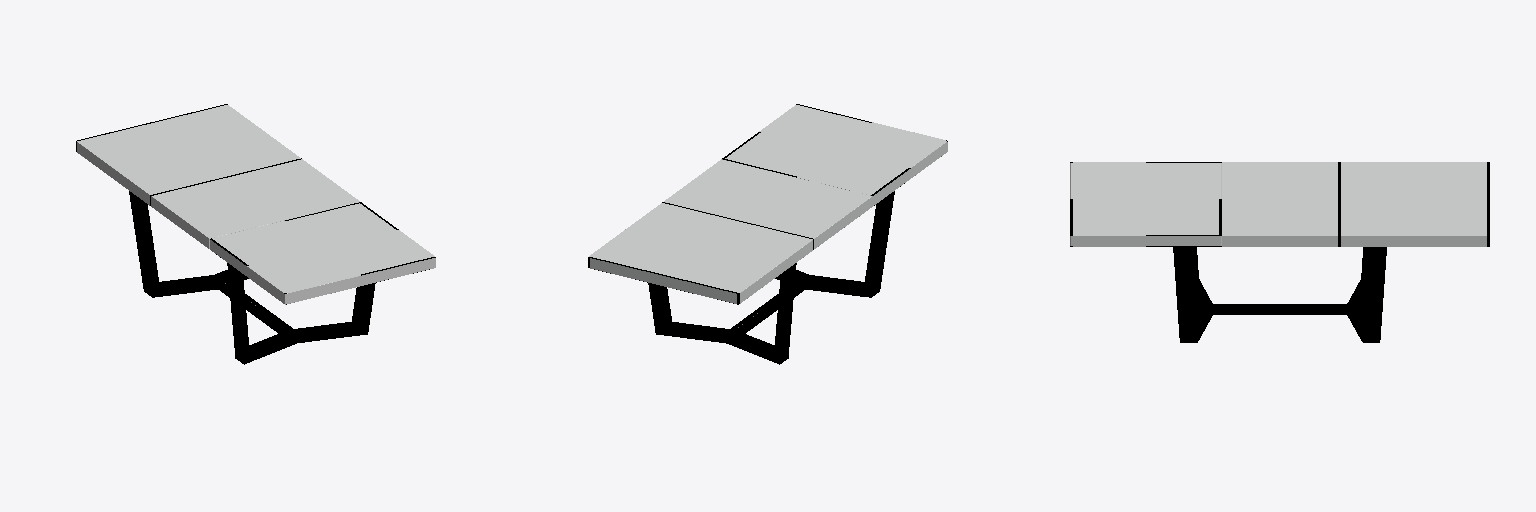
3 views of the same model, side by side, from view 1: azimuth 30°, elevation 25°; view 2: azimuth 150°, elevation 25°; view 3: azimuth 270°, elevation 25° (orthographic).
Parts seen in each view (by area): view 1: comedor:Table_Cartesio_T; view 2: comedor:Table_Cartesio_T; view 3: comedor:Table_Cartesio_T.
Boxes of the visible parts, x1,y1,x2,y2 form: comedor:Table_Cartesio_T: [76, 104, 435, 364]; comedor:Table_Cartesio_T: [588, 104, 947, 364]; comedor:Table_Cartesio_T: [1070, 162, 1489, 342].
Size of the model in its own units: 2.19 by 1.58 by 5.24.
4 materials, 1 textured.